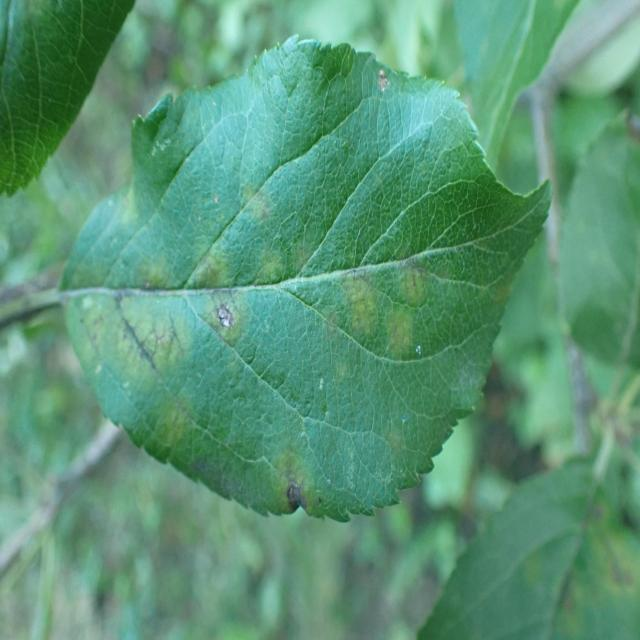scab: (66, 130, 455, 518)
